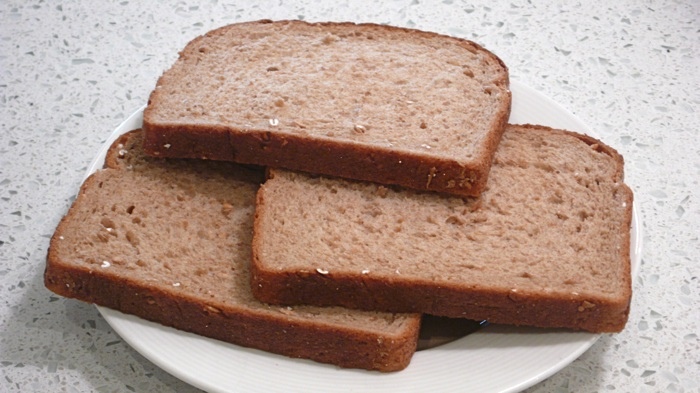slice of bread: (88, 131, 406, 347), (269, 110, 630, 297), (179, 25, 501, 201)
